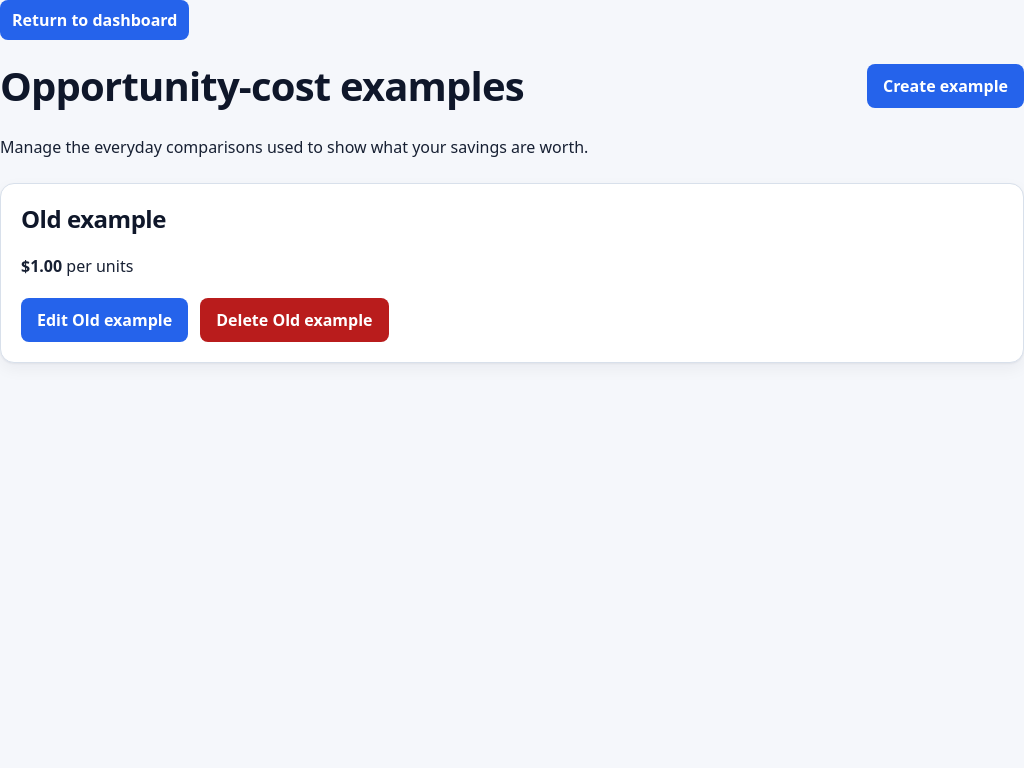
Test: OpportunityCostSettingsPage › refreshes server truth and closes a stale edit safely
Click the button "Edit Old example". click: point(105, 320)
box: [21,298,188,342]
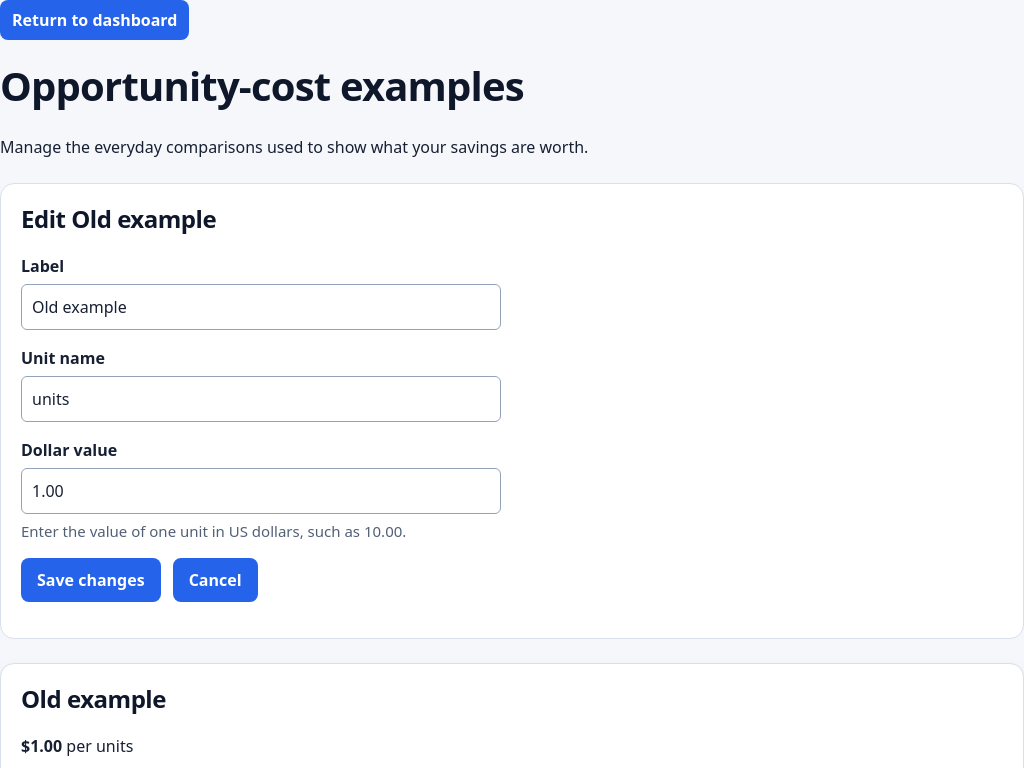
Click the button "Save changes". click: point(91, 580)
box: [21,558,161,602]
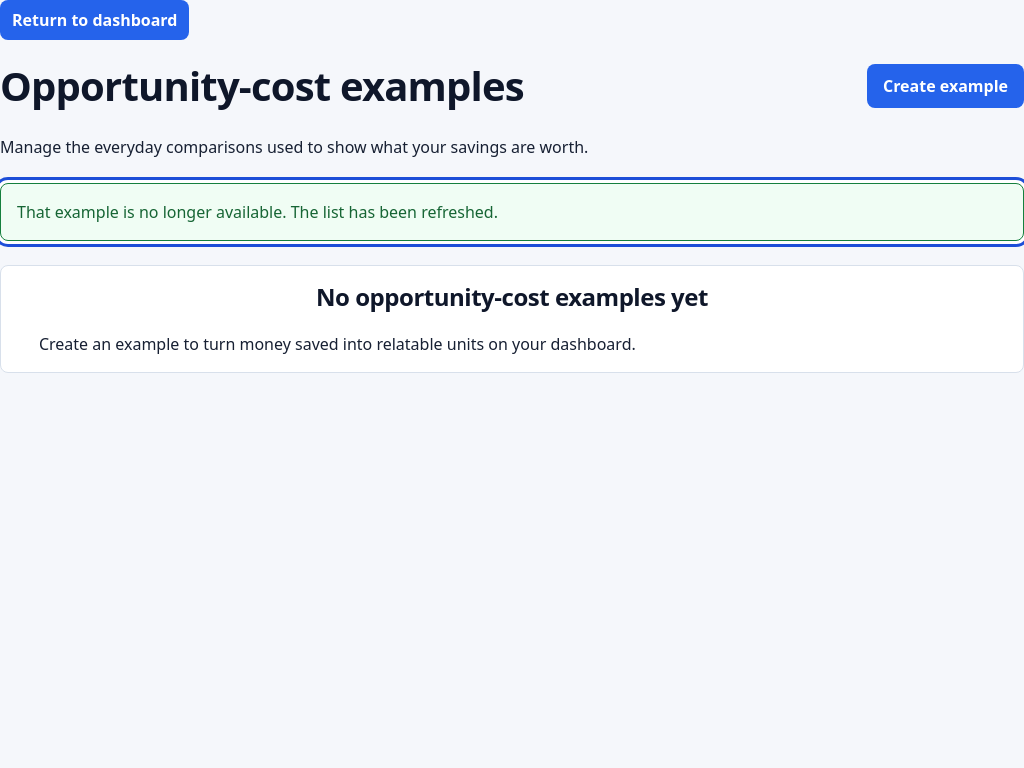
Result: the label labelled "Dollar value" is gone
